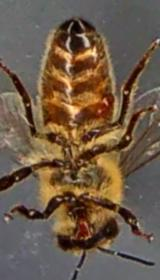varroa_mite: (92, 88, 119, 116)
